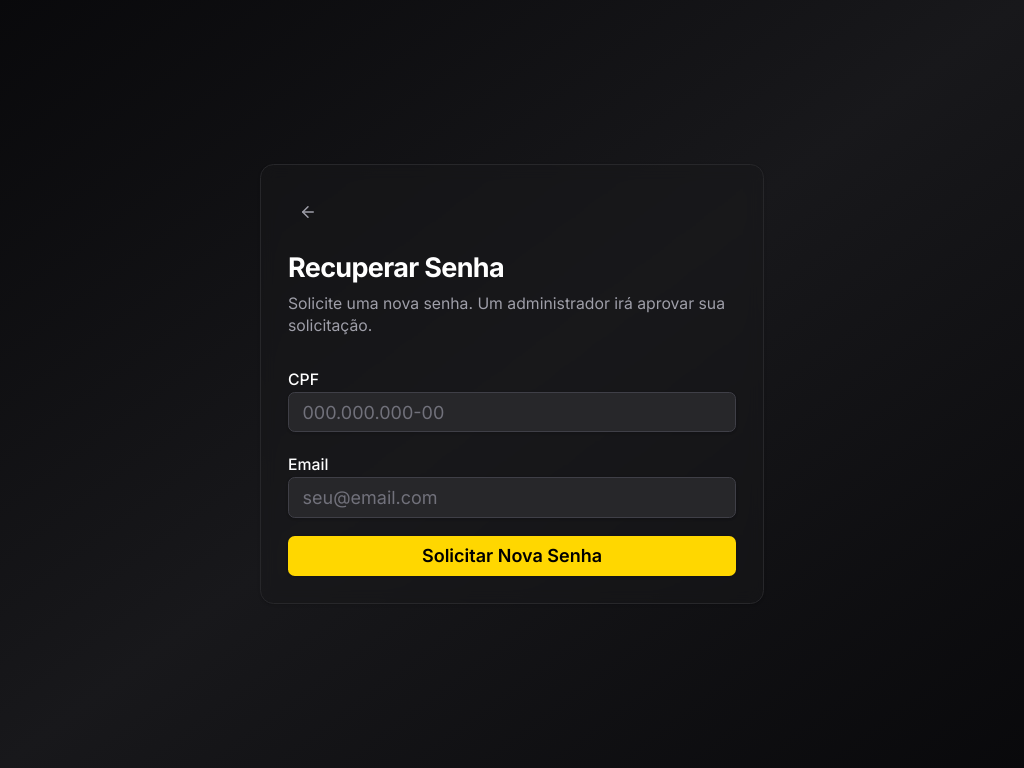
Test case: Password Reset Page › should validate empty fields
Note: Try to submit without filling anything
Click the button with test id "reset-submit-button". click: (512, 556)
box: x1=288 y1=536 x2=736 y2=576
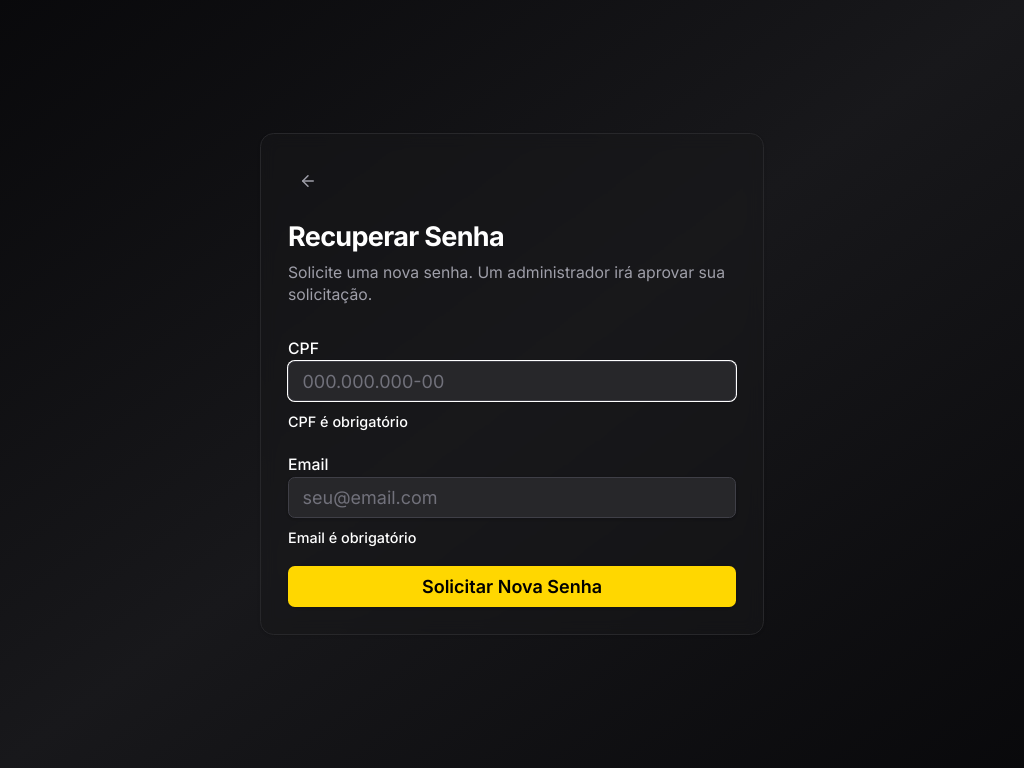
Check: the text "CPF é obrigatório" is shown, box x1=288 y1=413 x2=408 y2=430
Check: the text "Email é obrigatório" is shown, box x1=288 y1=529 x2=416 y2=546
